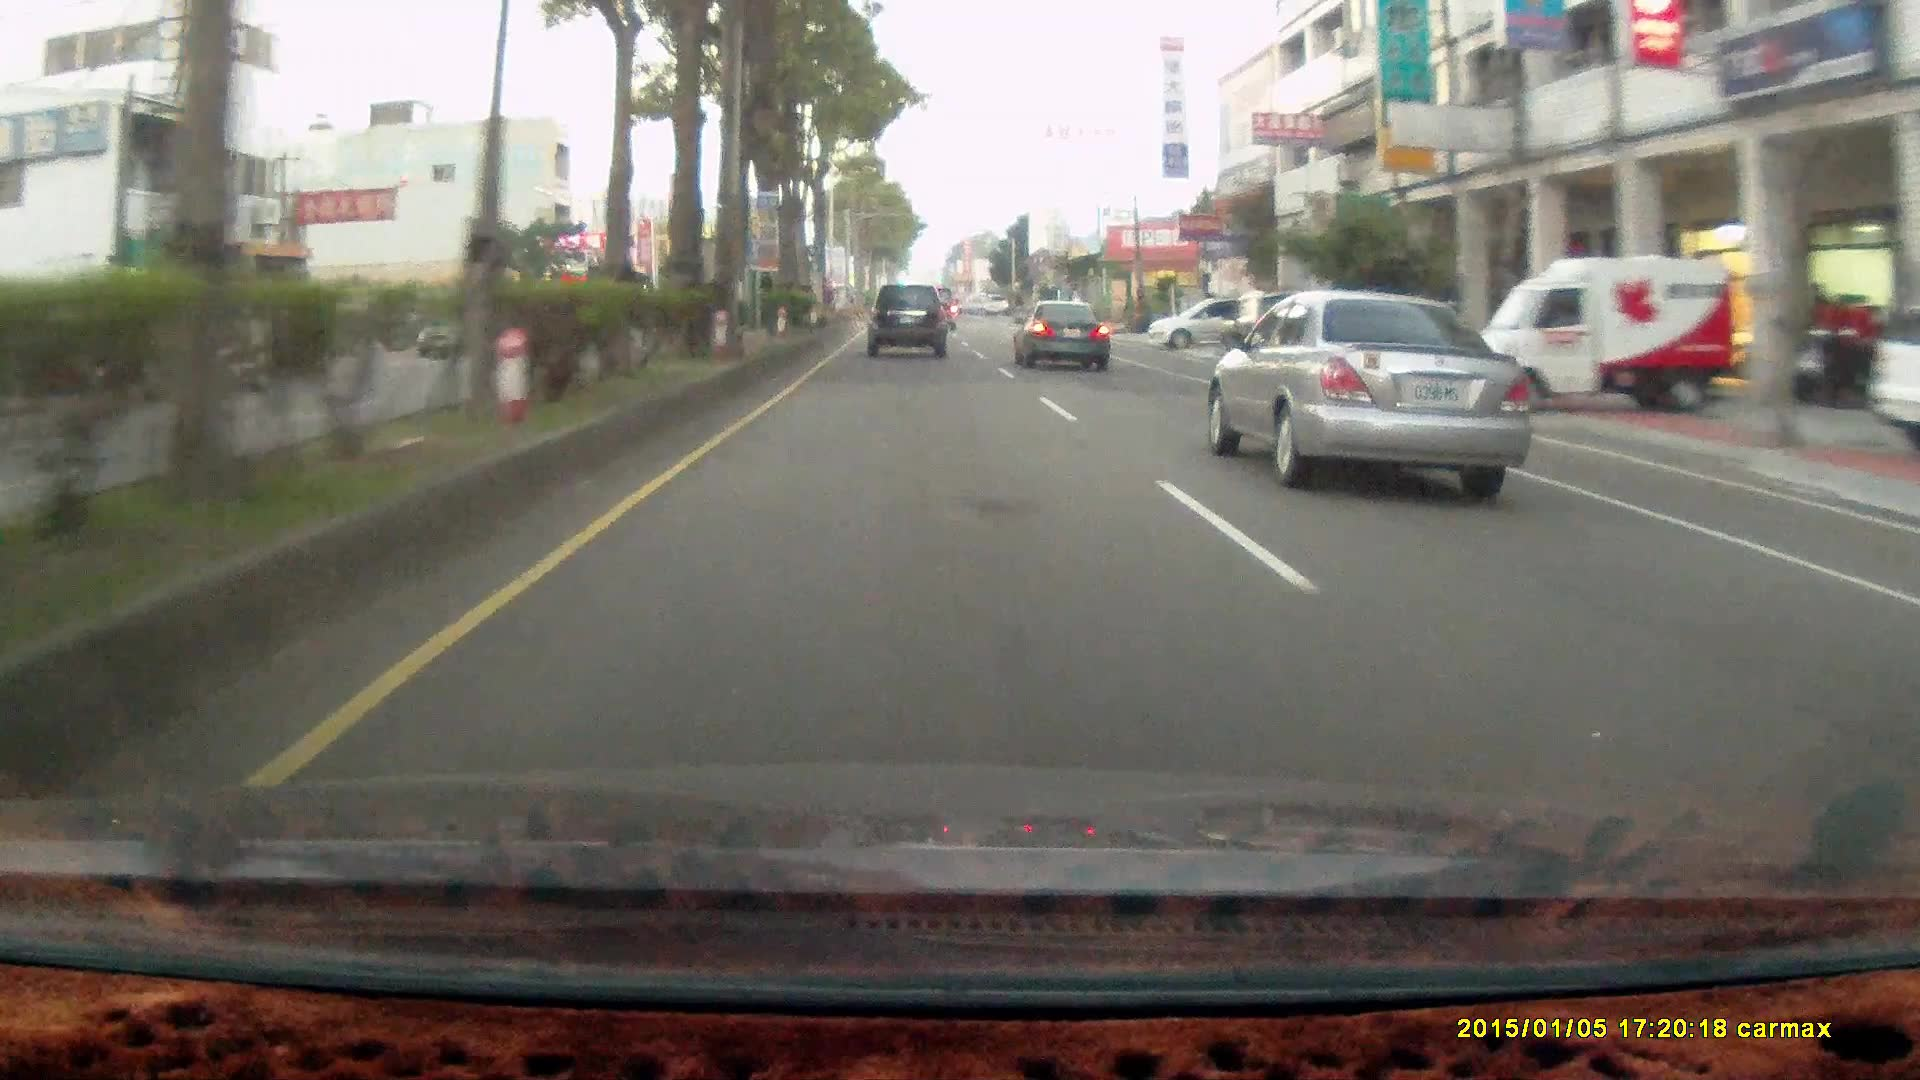vehicle: (1216, 290, 1543, 489), (1461, 255, 1741, 415), (1461, 255, 1733, 415), (1863, 299, 1919, 456), (1213, 287, 1319, 367), (1234, 287, 1340, 367), (1139, 297, 1279, 356), (1143, 294, 1282, 351), (1013, 295, 1114, 371), (1011, 298, 1109, 371), (866, 282, 949, 363), (866, 284, 947, 357)
